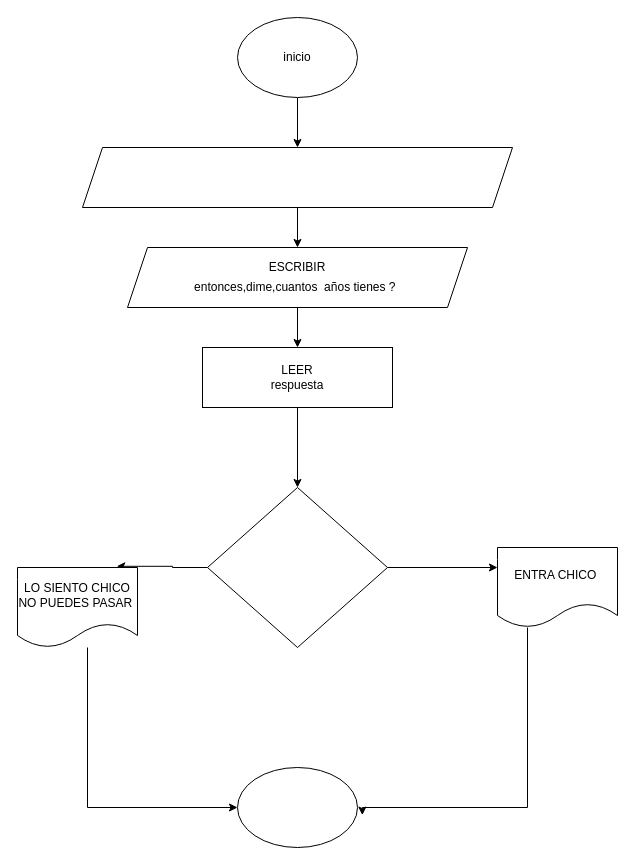
Some shapes in this 635 by 865 pixel diagram are drawn without their labels. The shapes that lost their labels are listed below. From the top down, each one's centre as x and y in pixels, then its label:
pixel 297 177: escribir "sabes que tienes que tener mas de 18 años para entrar aquí verdad?"
pixel 297 567: RESPUESTA=18 O RESPUESTA>18
pixel 297 807: FIN
